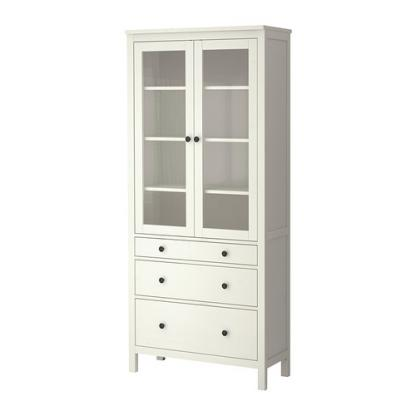Cabinet: (122, 21, 295, 394)
